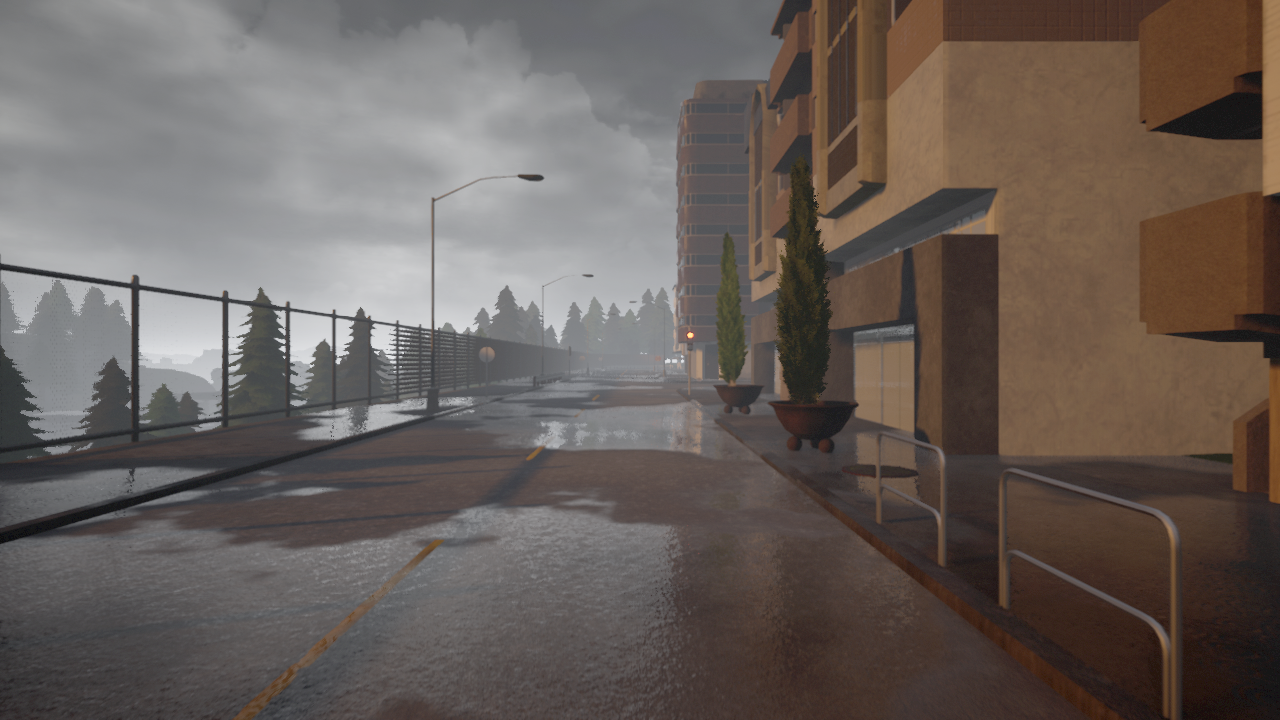red: (685, 330, 694, 351)
